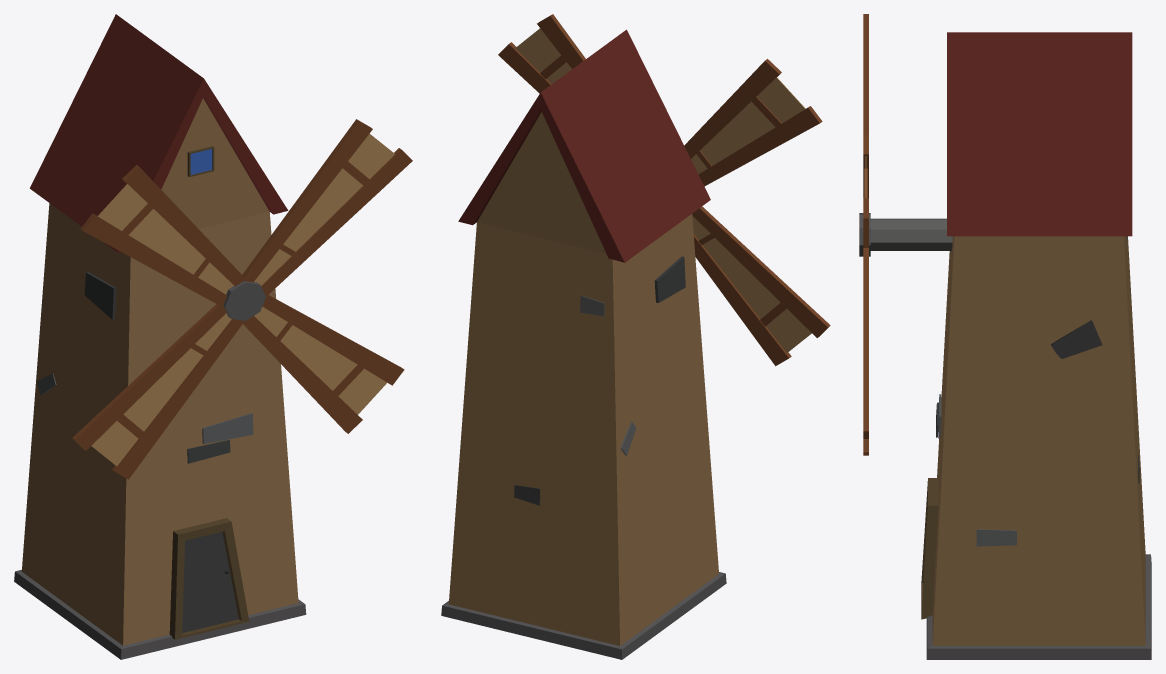
Rendered from Windmill_4.fbx.
The picture shows the model from 3 angles, left to right: view 1: azimuth 30°, elevation 25°; view 2: azimuth 150°, elevation 25°; view 3: azimuth 270°, elevation 25°; orthographic projection. The views are drawn at different scales.
Visible parts, largest first — view 1: Windmill_4; view 2: Windmill_4; view 3: Windmill_4.
Boxes of the visible parts, <box> form: Windmill_4: <box>14,14,412,659</box>; Windmill_4: <box>441,14,830,659</box>; Windmill_4: <box>859,14,1151,659</box>.
Size of the model in its own units: 355 by 554 by 253.
